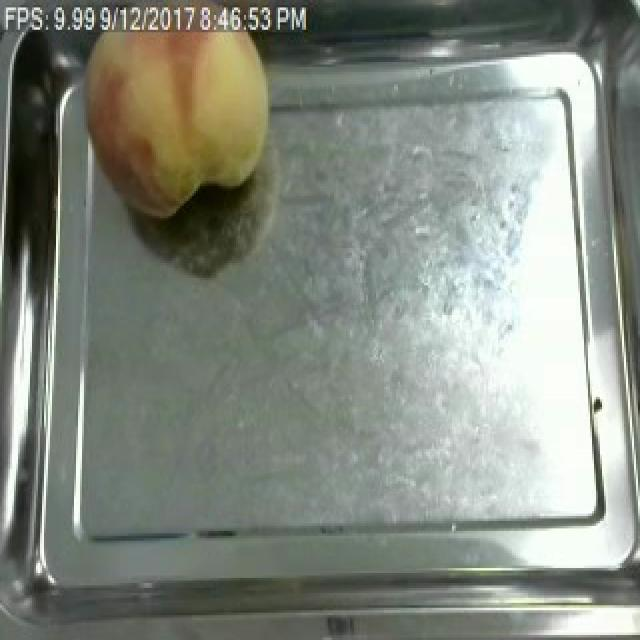Fruit: (64, 10, 284, 231)
